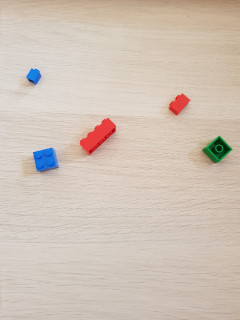1x1 blue: (26, 68, 41, 86)
1x2 red: (168, 94, 191, 115)
2x2 blue: (33, 147, 59, 173)
2x2 green: (202, 136, 233, 165)
2x4 red: (79, 118, 118, 154)
